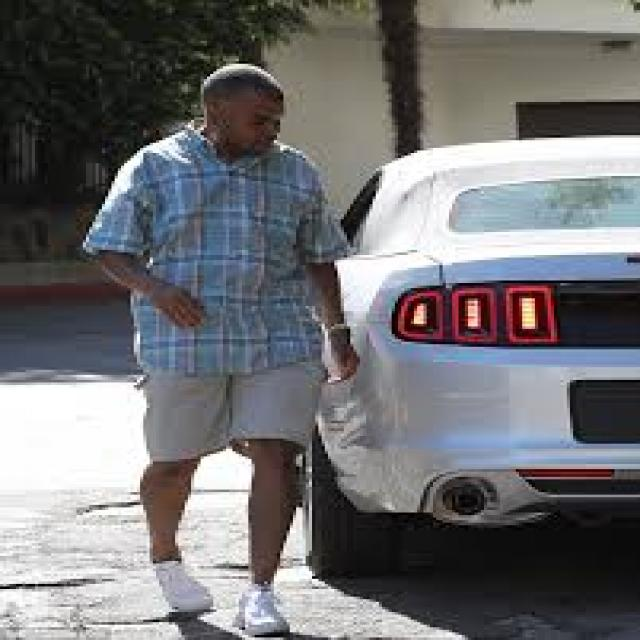minor: (332, 399, 394, 448)
